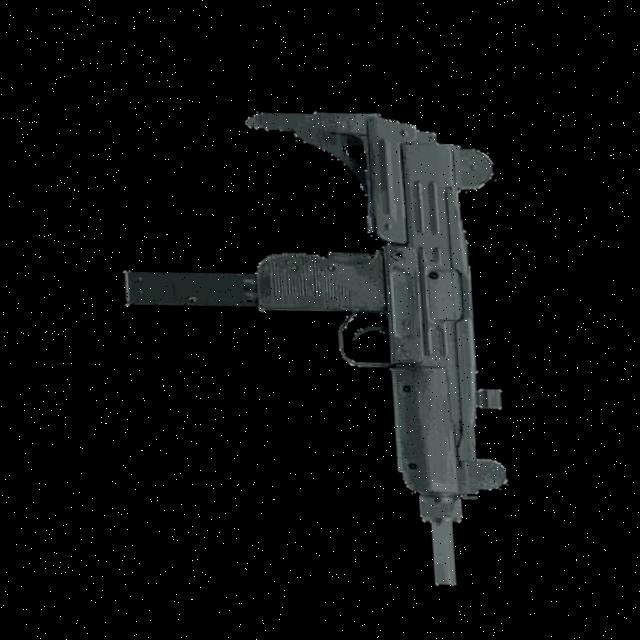firearm: (111, 92, 517, 595)
